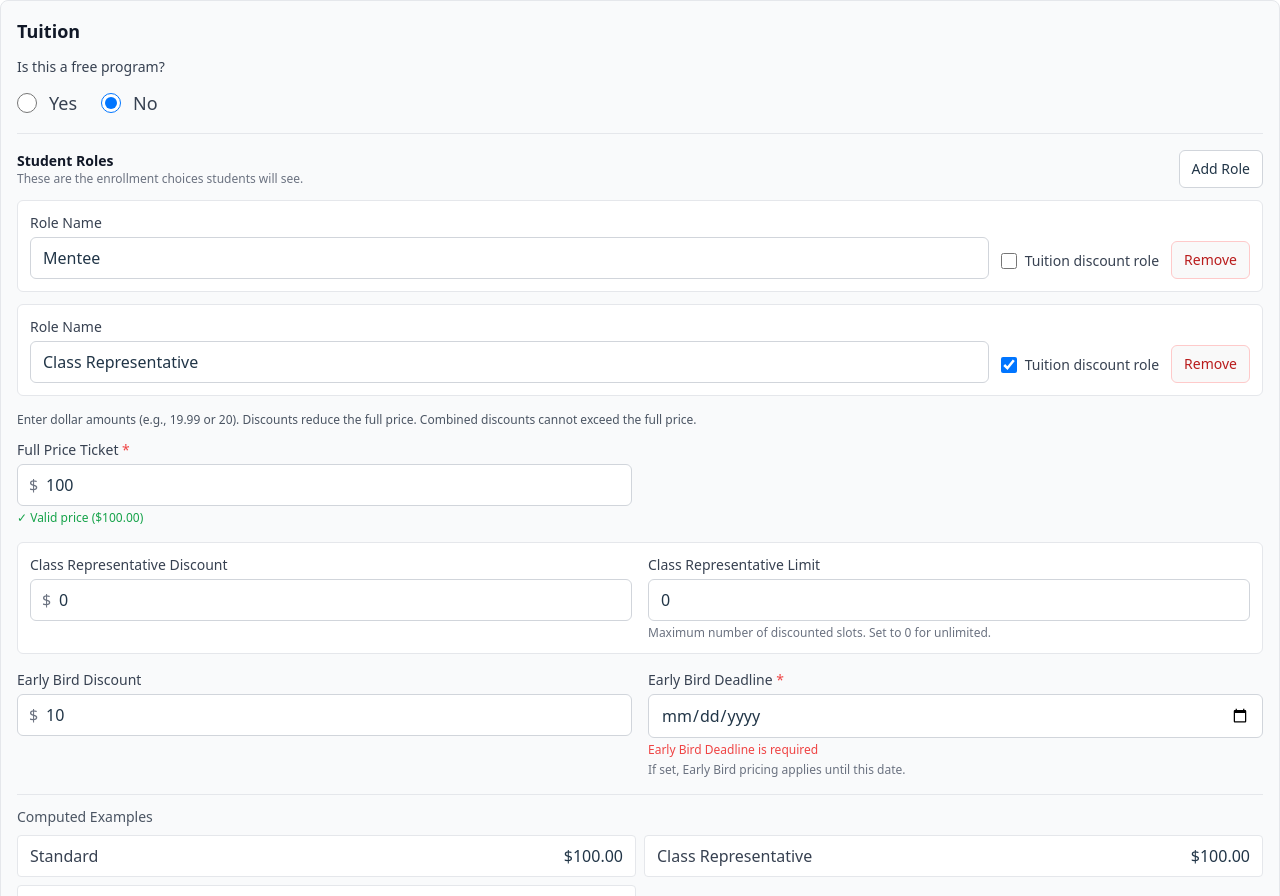
Test: EditProgram PricingSection student discount roles › keeps newly added roles independently selectable for tuition discounts
Click the button "Add Role" at (1221, 169), box [1178,150,1263,188]
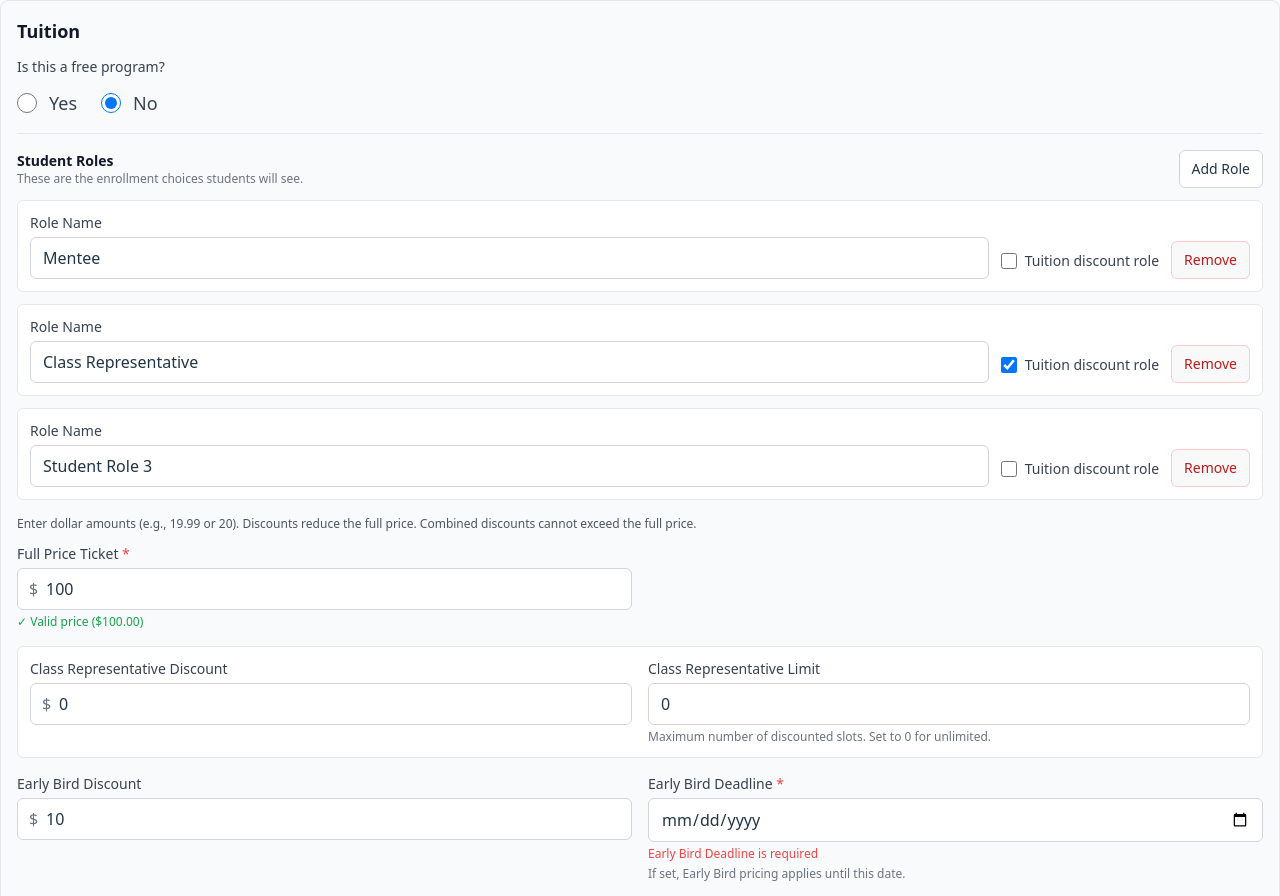
Type "Scholar" into the 3rd field labelled "Role Name" at (509, 466), box [30,445,989,487]
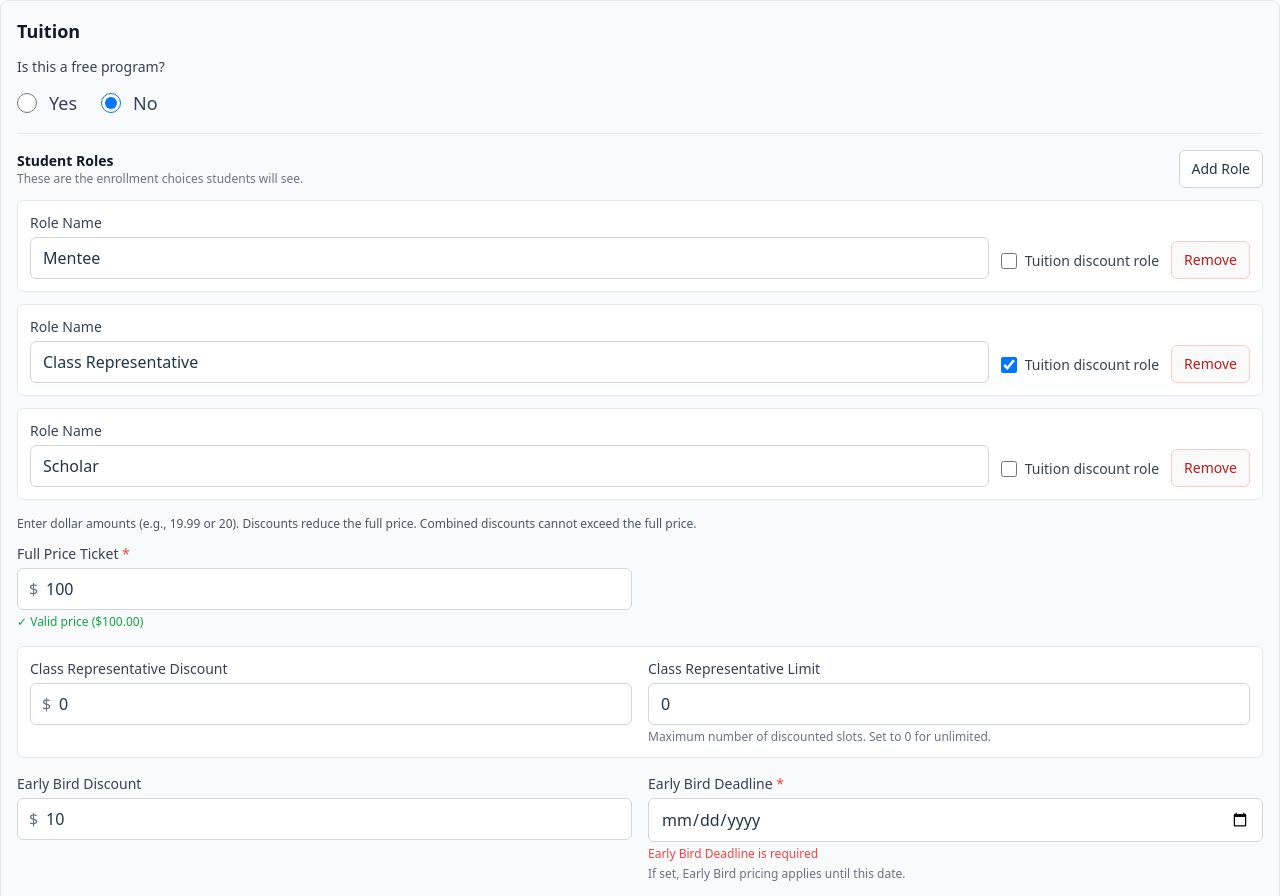
Click the 3rd checkbox labelled "Tuition discount role" at (1009, 469), box [1001,461,1017,477]
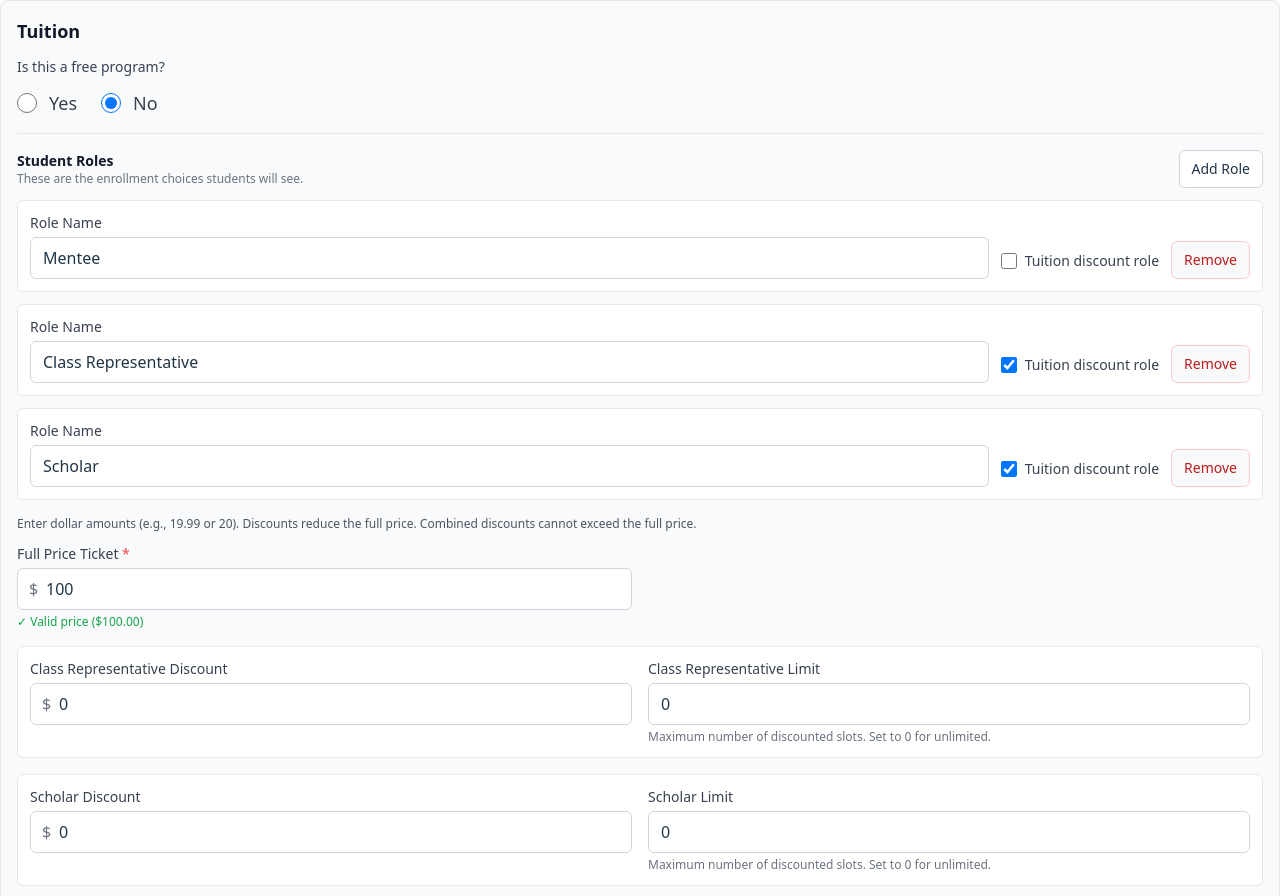
Expected: the 3rd checkbox labelled "Tuition discount role" is checked, [1001,461,1017,477]
Expected: the number field labelled "Scholar Discount" is shown, [30,811,632,853]
Expected: the number field labelled "Scholar Limit" is shown, [648,811,1250,853]
